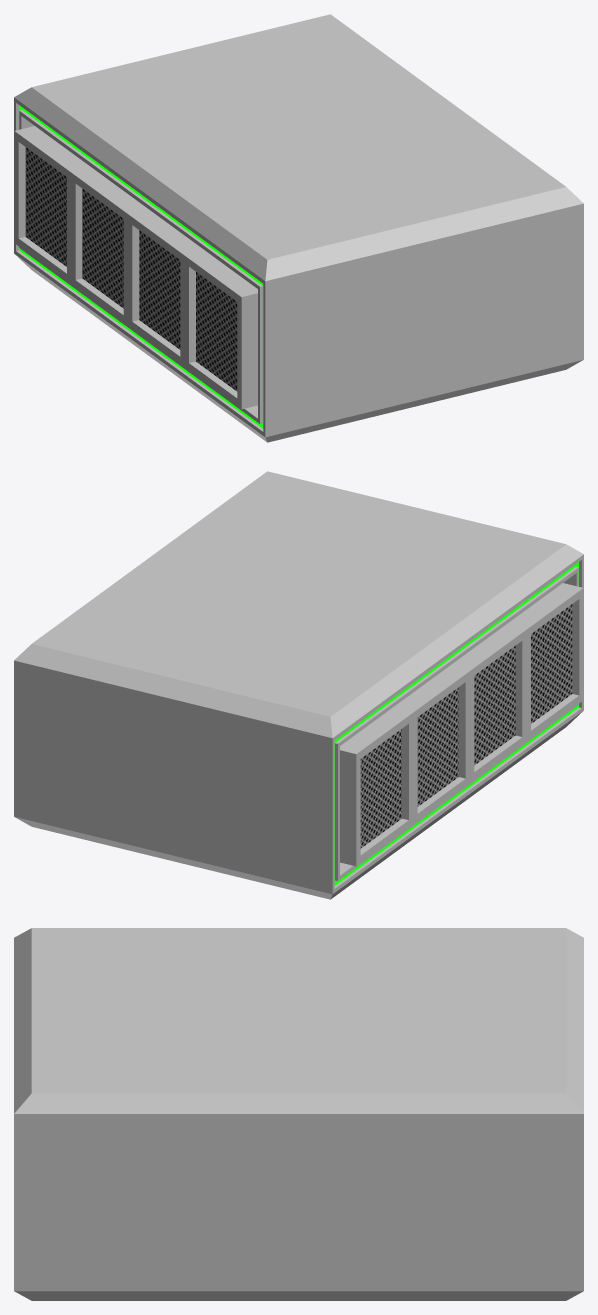
Rendered from Data_Box_01_D.FBX.
3 renders of one model, top to bottom at view 1: azimuth 30°, elevation 25°; view 2: azimuth 150°, elevation 25°; view 3: azimuth 270°, elevation 25°, orthographic. The views are drawn at different scales.
Parts seen in each view (by area): view 1: Data_Box_01_D_LOD0; view 2: Data_Box_01_D_LOD0; view 3: Data_Box_01_D_LOD0.
Part boxes in pixels (x1=…): Data_Box_01_D_LOD0: x1=14, y1=14, x2=583, y2=442; Data_Box_01_D_LOD0: x1=14, y1=471, x2=583, y2=899; Data_Box_01_D_LOD0: x1=14, y1=928, x2=583, y2=1300.
Size of what is drawn, in the model's own units: 25.92 by 13.71 by 34.16.
